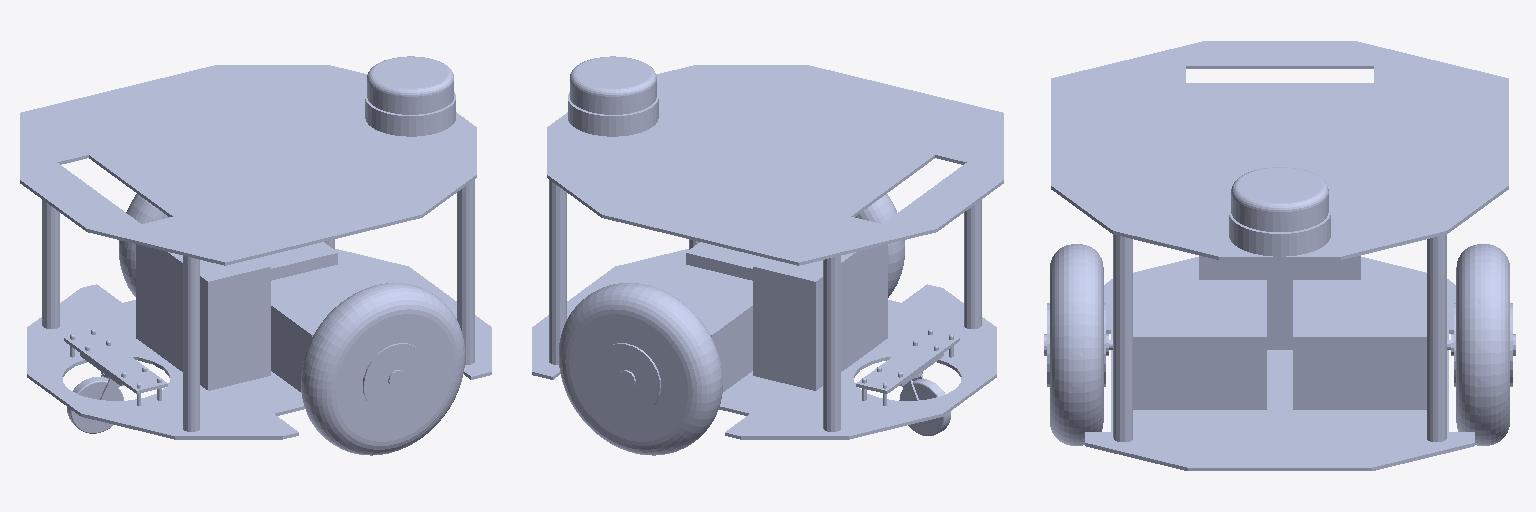
robot.urdf — mobilerobot_description:
<?xml version="1.0" encoding="utf-8"?>
<!-- This URDF was automatically created by SolidWorks to URDF Exporter! Originally created by [author] ([email redacted]) 
     Commit Version: 1.6.0-1-g15f4949  Build Version: 1.6.7594.29634
     For more information, please see http://wiki.ros.org/sw_urdf_exporter -->
<robot
  name="mobilerobot_description">
  <link
    name="base_footprint_link">
    <inertial>
      <origin
        xyz="-0.00360656709553187 5.51742622922902E-07 0.0961835709297454"
        rpy="0 0 0" />
      <mass
        value="2.7710684310164" />
      <inertia
        ixx="0.0077981909938028"
        ixy="3.97001787694196E-09"
        ixz="-1.26581058914571E-07"
        iyy="0.00827051967523543"
        iyz="1.7767419786386E-08"
        izz="0.0134964309780249" />
    </inertial>
    <visual>
      <origin
        xyz="0 0 0"
        rpy="0 0 0" />
      <geometry>
        <mesh
          filename="package://mobilerobot_description/meshes/base_footprint_link.STL" />
      </geometry>
      <material
        name="">
        <color
          rgba="0.792156862745098 0.819607843137255 0.933333333333333 1" />
      </material>
    </visual>
    <collision>
      <origin
        xyz="0 0 0"
        rpy="0 0 0" />
      <geometry>
        <mesh
          filename="package://mobilerobot_description/meshes/base_footprint_link.STL" />
      </geometry>
    </collision>
  </link>
  <link
    name="base_link">
    <inertial>
      <origin
        xyz="-0.00360656709553203 5.51742622978413E-07 0.0536372127068656"
        rpy="0 0 0" />
      <mass
        value="2.7710684310164" />
      <inertia
        ixx="0.0077981909938028"
        ixy="3.97001787694196E-09"
        ixz="-1.26581058914544E-07"
        iyy="0.00827051967523543"
        iyz="1.77674197863927E-08"
        izz="0.0134964309780249" />
    </inertial>
    <visual>
      <origin
        xyz="0 0 0"
        rpy="0 0 0" />
      <geometry>
        <mesh
          filename="package://mobilerobot_description/meshes/base_link.STL" />
      </geometry>
      <material
        name="">
        <color
          rgba="0.792156862745098 0.819607843137255 0.933333333333333 1" />
      </material>
    </visual>
    <collision>
      <origin
        xyz="0 0 0"
        rpy="0 0 0" />
      <geometry>
        <mesh
          filename="package://mobilerobot_description/meshes/base_link.STL" />
      </geometry>
    </collision>
  </link>
  <joint
    name="base_link_joint"
    type="fixed">
    <origin
      xyz="0 0 0.0425463582228798"
      rpy="0 0 0" />
    <parent
      link="base_footprint_link" />
    <child
      link="base_link" />
    <axis
      xyz="0 0 0" />
  </joint>
  <link
    name="lw_link">
    <inertial>
      <origin
        xyz="-2.4925E-14 -0.024 3.0323E-15"
        rpy="0 0 0" />
      <mass
        value="0.6555" />
      <inertia
        ixx="0.00092301"
        ixy="-7.1015E-18"
        ixz="-7.3692E-20"
        iyy="0.0016795"
        iyz="5.1161E-19"
        izz="0.00092301" />
    </inertial>
    <visual>
      <origin
        xyz="0 0 0"
        rpy="0 0 0" />
      <geometry>
        <mesh
          filename="package://mobilerobot_description/meshes/lw_link.STL" />
      </geometry>
      <material
        name="">
        <color
          rgba="0.79216 0.81961 0.93333 1" />
      </material>
    </visual>
    <collision>
      <origin
        xyz="0 0 0"
        rpy="0 0 0" />
      <geometry>
        <mesh
          filename="package://mobilerobot_description/meshes/lw_link.STL" />
      </geometry>
    </collision>
  </link>
  <joint
    name="lw_link_joint"
    type="continuous">
    <origin
      xyz="0.028202 0.175 0.033"
      rpy="0 0 0" />
    <parent
      link="base_link" />
    <child
      link="lw_link" />
    <axis
      xyz="0 1 0" />
  </joint>
  <link
    name="rw_link">
    <inertial>
      <origin
        xyz="4.996E-14 0.024 -1.2434E-14"
        rpy="0 0 0" />
      <mass
        value="0.6555" />
      <inertia
        ixx="0.00092301"
        ixy="-7.1557E-18"
        ixz="-7.7927E-20"
        iyy="0.0016795"
        iyz="4.4977E-19"
        izz="0.00092301" />
    </inertial>
    <visual>
      <origin
        xyz="0 0 0"
        rpy="0 0 0" />
      <geometry>
        <mesh
          filename="package://mobilerobot_description/meshes/rw_link.STL" />
      </geometry>
      <material
        name="">
        <color
          rgba="0.79216 0.81961 0.93333 1" />
      </material>
    </visual>
    <collision>
      <origin
        xyz="0 0 0"
        rpy="0 0 0" />
      <geometry>
        <mesh
          filename="package://mobilerobot_description/meshes/rw_link.STL" />
      </geometry>
    </collision>
  </link>
  <joint
    name="rw_link_joint"
    type="continuous">
    <origin
      xyz="0.028202 -0.175 0.033"
      rpy="0 0 0" />
    <parent
      link="base_link" />
    <child
      link="rw_link" />
    <axis
      xyz="0 1 0" />
  </joint>
  <link
    name="caster_back_link">
    <inertial>
      <origin
        xyz="0.001251 0.0089126 -6.9389E-18"
        rpy="0 0 0" />
      <mass
        value="0.018145" />
      <inertia
        ixx="2.7833E-06"
        ixy="3.3411E-07"
        ixz="-2.3823E-22"
        iyy="5.1167E-06"
        iyz="-2.6734E-21"
        izz="2.7364E-06" />
    </inertial>
    <visual>
      <origin
        xyz="0 0 0"
        rpy="0 0 0" />
      <geometry>
        <mesh
          filename="package://mobilerobot_description/meshes/caster_back_link.STL" />
      </geometry>
      <material
        name="">
        <color
          rgba="0.79216 0.81961 0.93333 1" />
      </material>
    </visual>
    <collision>
      <origin
        xyz="0 0 0"
        rpy="0 0 0" />
      <geometry>
        <mesh
          filename="package://mobilerobot_description/meshes/caster_back_link.STL" />
      </geometry>
    </collision>
  </link>
  <joint
    name="caster_link_joint"
    type="continuous">
    <origin
      xyz="-0.15995 -0.0063367 -0.018546"
      rpy="0 0 0" />
    <parent
      link="base_link" />
    <child
      link="caster_back_link" />
    <axis
      xyz="-0.139 -0.99029 0" />
  </joint>
  <link
    name="lidar_link">
    <inertial>
      <origin
        xyz="-1.6653E-16 0 -0.020971"
        rpy="0 0 0" />
      <mass
        value="0.17395" />
      <inertia
        ixx="8.3136E-05"
        ixy="6.7763E-21"
        ixz="8.6291E-20"
        iyy="8.3136E-05"
        iyz="4.251E-20"
        izz="0.00011843" />
    </inertial>
    <visual>
      <origin
        xyz="0 0 0"
        rpy="0 0 0" />
      <geometry>
        <mesh
          filename="package://mobilerobot_description/meshes/lidar_link.STL" />
      </geometry>
      <material
        name="">
        <color
          rgba="0.79216 0.81961 0.93333 1" />
      </material>
    </visual>
    <collision>
      <origin
        xyz="0 0 0"
        rpy="0 0 0" />
      <geometry>
        <mesh
          filename="package://mobilerobot_description/meshes/lidar_link.STL" />
      </geometry>
    </collision>
  </link>
  <joint
    name="lidar_link_joint"
    type="fixed">
    <origin
      xyz="0.1418 0 0.2168"
      rpy="0 0 0" />
    <parent
      link="base_link" />
    <child
      link="lidar_link" />
    <axis
      xyz="0 0 0" />
  </joint>
</robot>

--- What the picture shows (computed from the rendered views, not written in the file) ---
Views: 3 orthographic renders of the robot side by side, from view 1: azimuth 30°, elevation 25°; view 2: azimuth 150°, elevation 25°; view 3: azimuth 270°, elevation 25°.
Robot: mobilerobot_description — 6 links, 5 joints (3 continuous, 2 fixed); root link base_footprint_link; default pose: all joints at 0.
Visible links, largest first — view 1: base_footprint_link, rw_link, base_link, lidar_link, lw_link, caster_back_link; view 2: base_footprint_link, lw_link, base_link, lidar_link, rw_link, caster_back_link; view 3: base_footprint_link, base_link, lw_link, rw_link, lidar_link.
Boxes of the visible links, <box> form: base_footprint_link: <box>20,65,491,439</box>; rw_link: <box>301,283,464,455</box>; base_link: <box>42,201,380,430</box>; lidar_link: <box>365,56,455,136</box>; lw_link: <box>119,194,168,296</box>; caster_back_link: <box>67,377,123,433</box>; base_footprint_link: <box>532,65,1003,439</box>; lw_link: <box>559,283,722,455</box>; base_link: <box>549,180,981,431</box>; lidar_link: <box>568,56,658,136</box>; rw_link: <box>855,194,904,297</box>; caster_back_link: <box>899,379,950,435</box>; base_footprint_link: <box>1051,41,1508,470</box>; base_link: <box>1133,236,1450,441</box>; lw_link: <box>1451,244,1515,445</box>; rw_link: <box>1044,244,1108,445</box>; lidar_link: <box>1229,167,1330,256</box>.
Size in the robot's own frame: 0.38 by 0.35 by 0.2593 metres.
6 mesh visuals loaded from 6 distinct referenced files (6 binary STL).